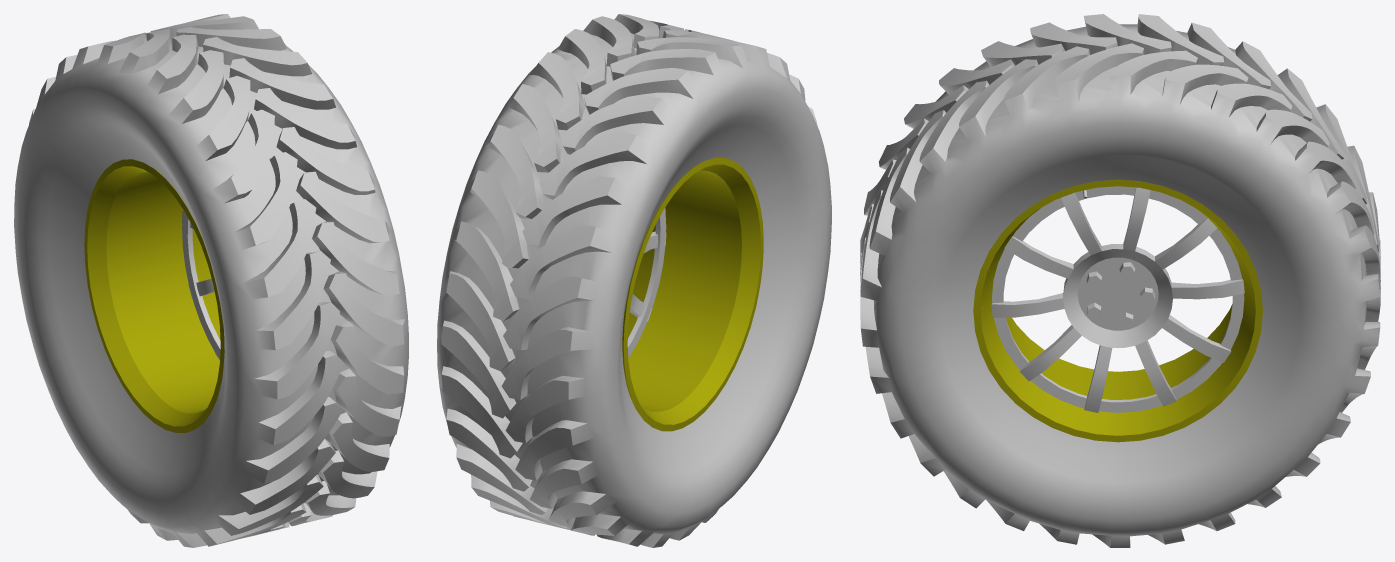
File: Wheel_4.fbx
3 renders of one model, left to right at view 1: azimuth 30°, elevation 25°; view 2: azimuth 150°, elevation 25°; view 3: azimuth 270°, elevation 25°, orthographic.
Visible parts, largest first — view 1: truck tire, RimTrck; view 2: truck tire, RimTrck; view 3: truck tire, RimTrck.
Boxes of the visible parts, x1=… form: truck tire: x1=14, y1=14, x2=408, y2=547; RimTrck: x1=84, y1=159, x2=224, y2=432; truck tire: x1=437, y1=14, x2=831, y2=547; RimTrck: x1=622, y1=157, x2=763, y2=431; truck tire: x1=860, y1=14, x2=1380, y2=547; RimTrck: x1=973, y1=179, x2=1262, y2=442.
Size of the model in its own units: 36.3 by 95.61 by 95.61.
